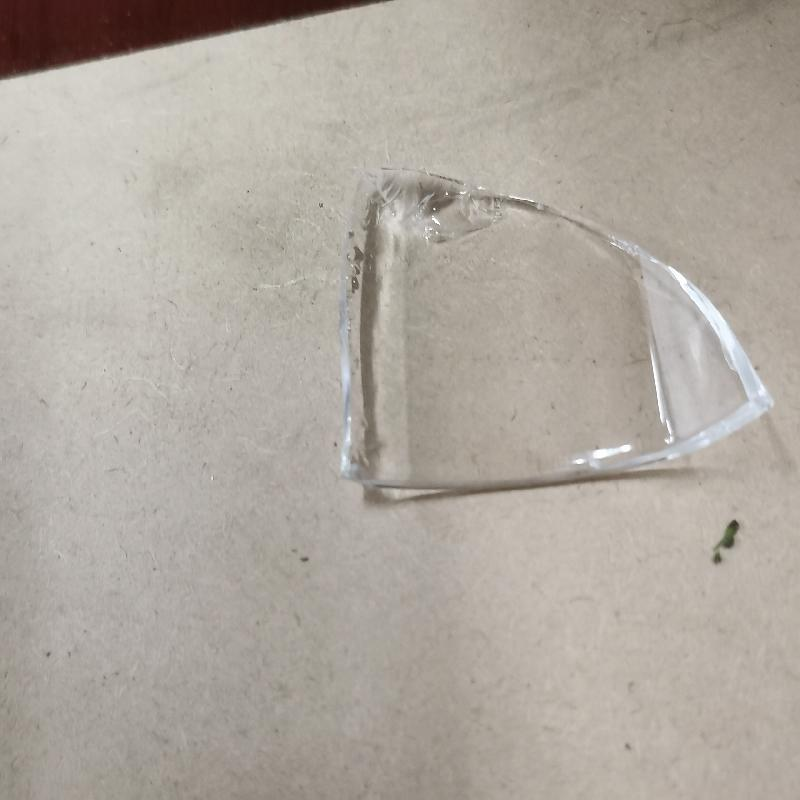glass: (332, 165, 773, 501)
